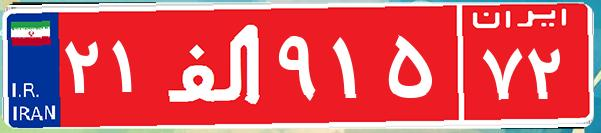1: (330, 28, 385, 110), (110, 28, 158, 105)
2: (57, 26, 110, 107), (525, 38, 570, 115)
5: (385, 28, 445, 110)
7: (475, 38, 525, 113)
9: (273, 28, 330, 110)
الف: (158, 15, 273, 115)
